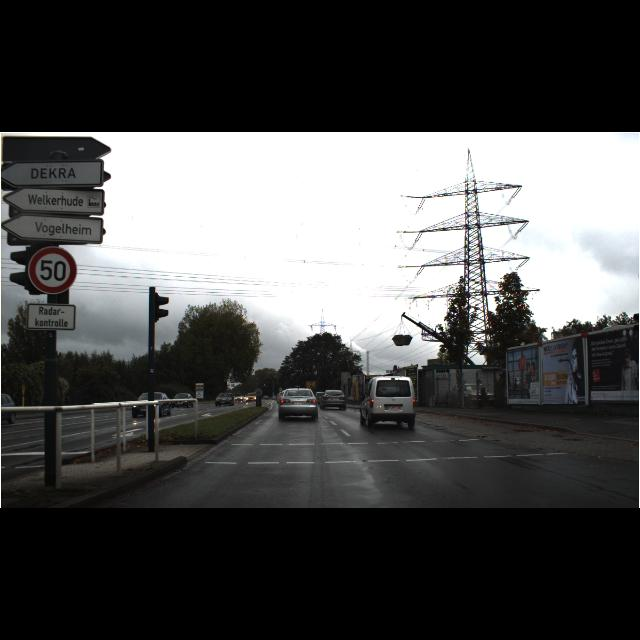prohibitory: (28, 246, 76, 294)
